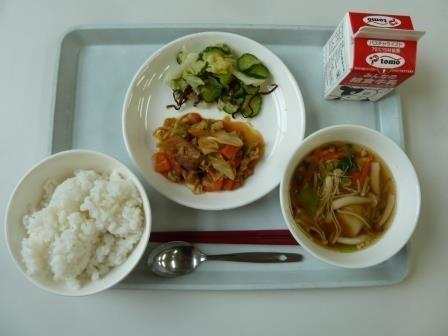Milk: (324, 9, 431, 106)
Rice: (4, 154, 145, 291)
Salad: (168, 46, 273, 121)
vegetable based cooked food: (146, 114, 273, 195)
vegetable soup: (283, 131, 420, 263)
